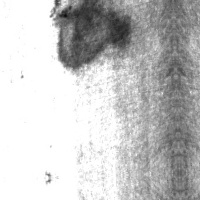patches: (55, 0, 132, 68)
